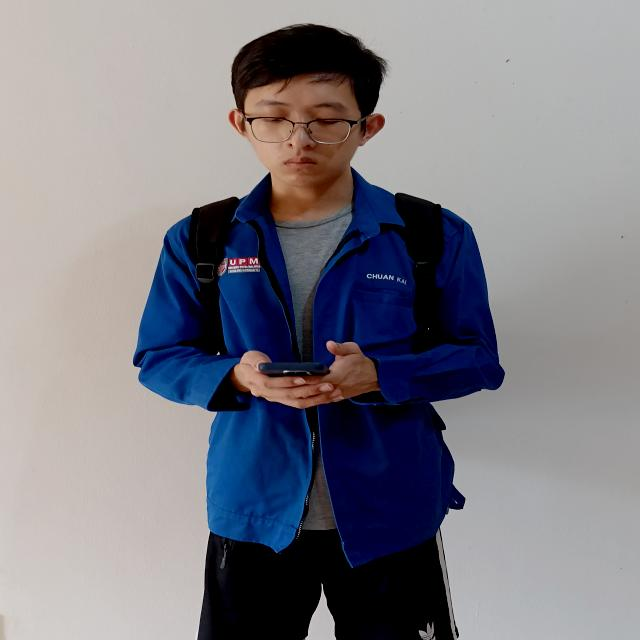person_with_labcoat: (134, 24, 504, 640)
